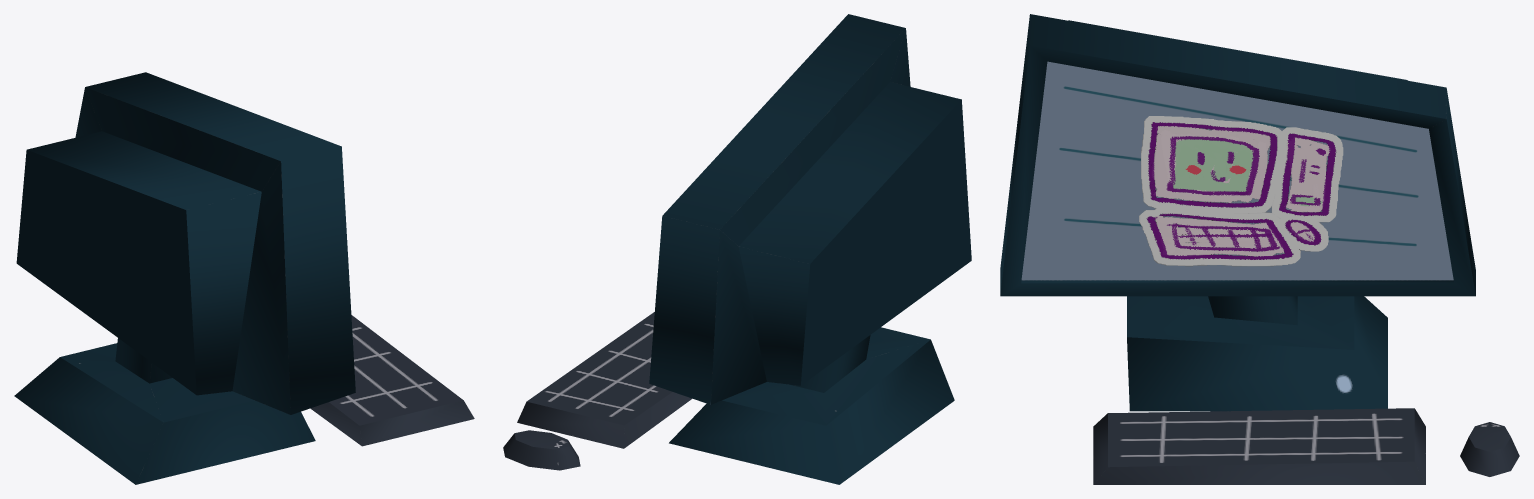
3 views of the same model, side by side, from view 1: azimuth 30°, elevation 25°; view 2: azimuth 150°, elevation 25°; view 3: azimuth 270°, elevation 25° (orthographic). The views are drawn at different scales.
Parts seen in each view (by area): view 1: compu_Pantalla; view 2: compu_Pantalla; view 3: compu_Pantalla, Plane.007.
Part boxes in pixels (left/top/right/bottom): compu_Pantalla: left=14, top=72, right=474, bottom=484; compu_Pantalla: left=503, top=14, right=971, bottom=484; compu_Pantalla: left=1000, top=14, right=1519, bottom=484; Plane.007: left=1139, top=116, right=1343, bottom=266.
Size of the model in its own units: 253 by 253 by 333.
2 materials, 2 textured.
